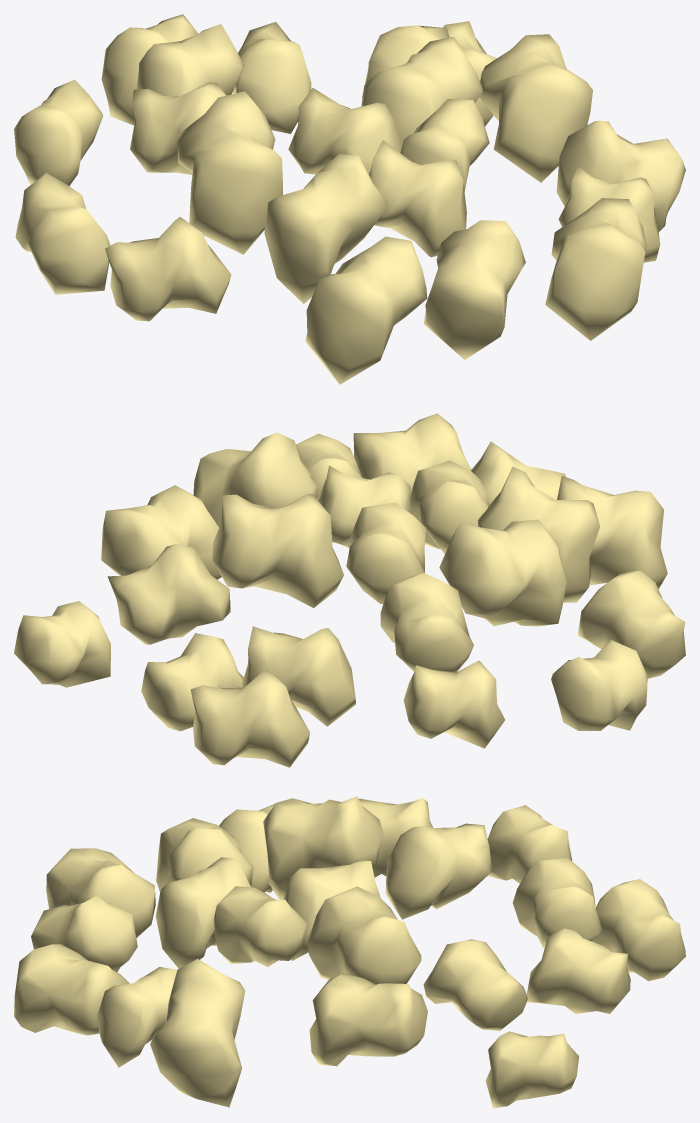
The model's file is testcoal.fbx.
3 renders of one model, top to bottom at view 1: azimuth 30°, elevation 25°; view 2: azimuth 150°, elevation 25°; view 3: azimuth 270°, elevation 25°, orthographic. The views are drawn at different scales.
Visible parts, largest first — view 1: Coal_lp.001; view 2: Coal_lp.001; view 3: Coal_lp.001.
Part boxes in pixels (x1,y1,x2,y2): Coal_lp.001: (14,14,685,384); Coal_lp.001: (14,413,685,767); Coal_lp.001: (14,796,685,1108).
Size of the model in its own units: 155 by 48.57 by 177.
